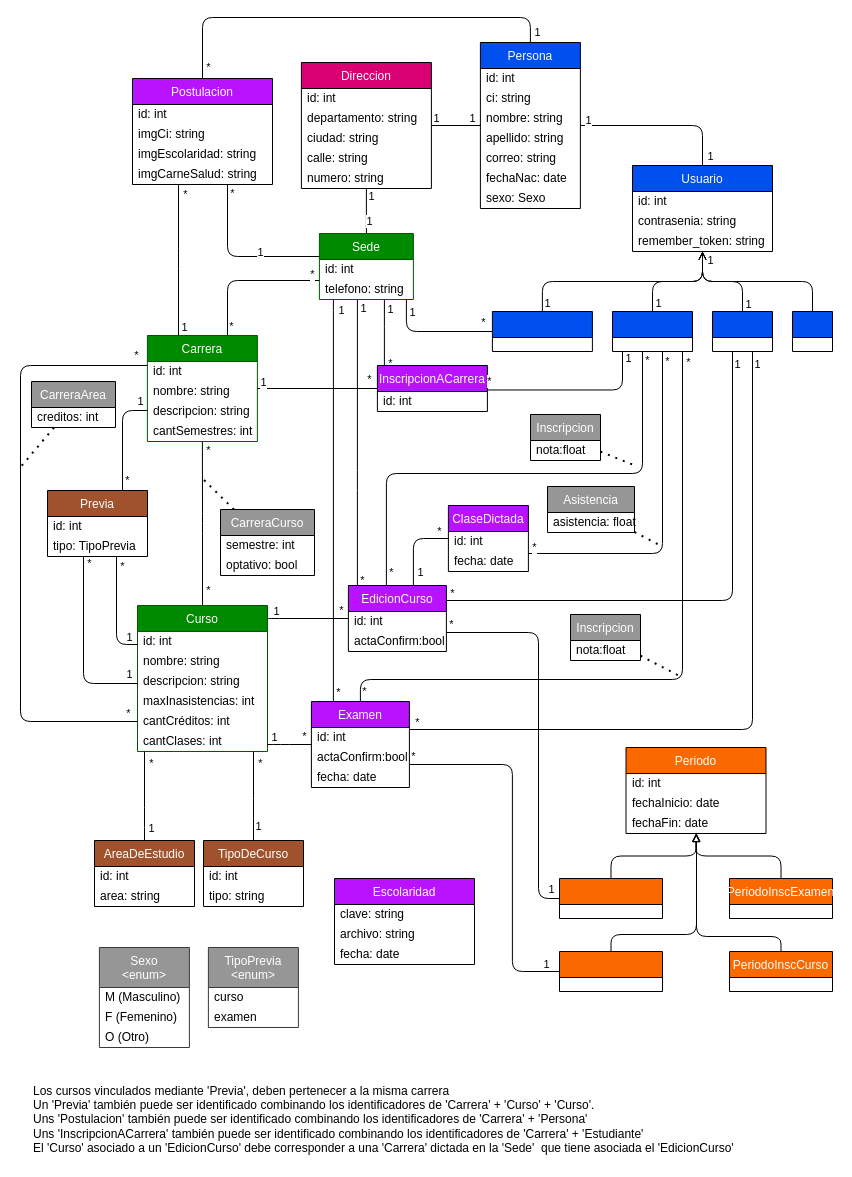
Image size: 852x1177. Some labels were removed from this diagram. The shapes that lost their labels are listed below. From the top down, each one's centre as x and y in pixels, then its label:
point (541, 331): Administrativo
point (652, 331): Estudiante
point (742, 331): Docente
point (812, 331): Admin
point (610, 898): PeriodoLectivo
point (610, 971): PeriodoExamen
